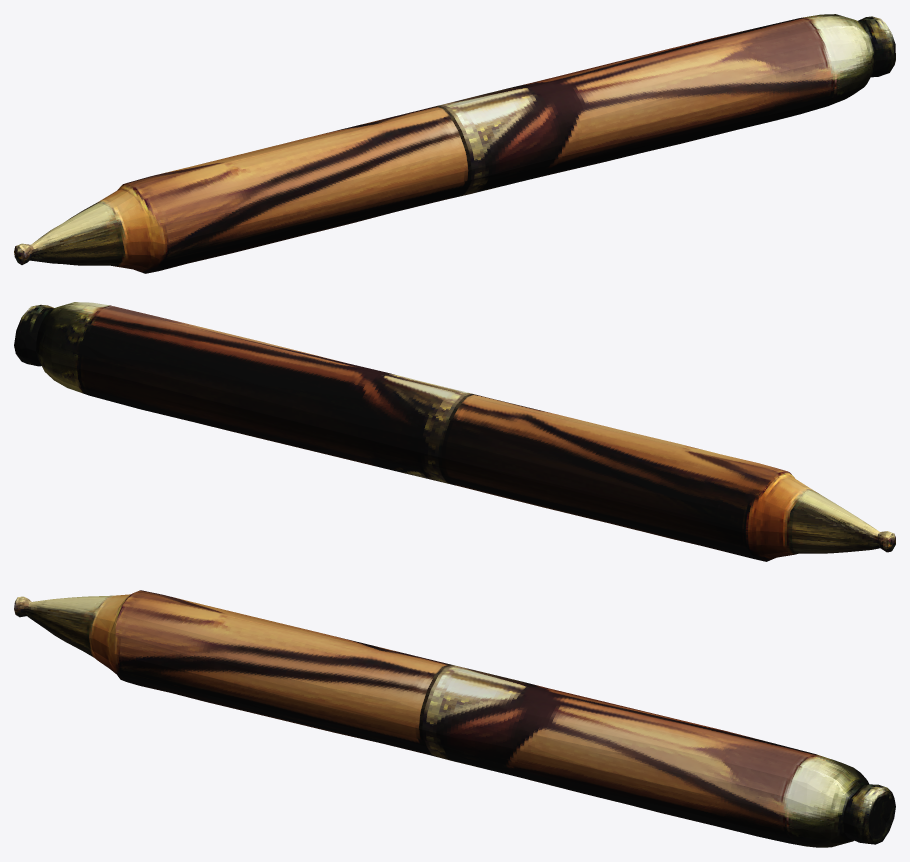
The model's file is wooden-stylus-art-deco.jpeg.glb.
3 views of the same model, one above another, from view 1: azimuth 30°, elevation 25°; view 2: azimuth 150°, elevation 25°; view 3: azimuth 330°, elevation 25° (orthographic).
Visible parts, largest first — view 1: world; view 2: world; view 3: world.
Part boxes in pixels (left/top/right/bottom): world: left=14, top=14, right=895, bottom=273; world: left=14, top=302, right=895, bottom=561; world: left=14, top=590, right=895, bottom=847.
Size of the model in its own units: 1 by 0.0972 by 0.0974.
Materials: 1 (1 with a texture image).
